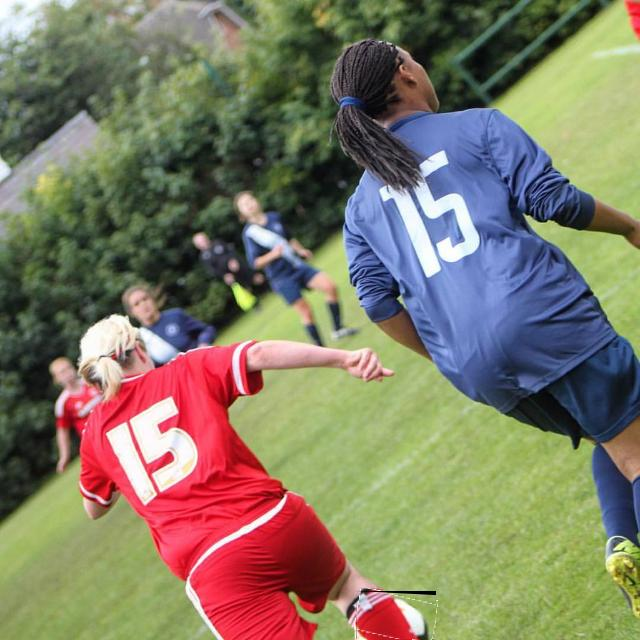Football: (356, 591, 436, 639)
